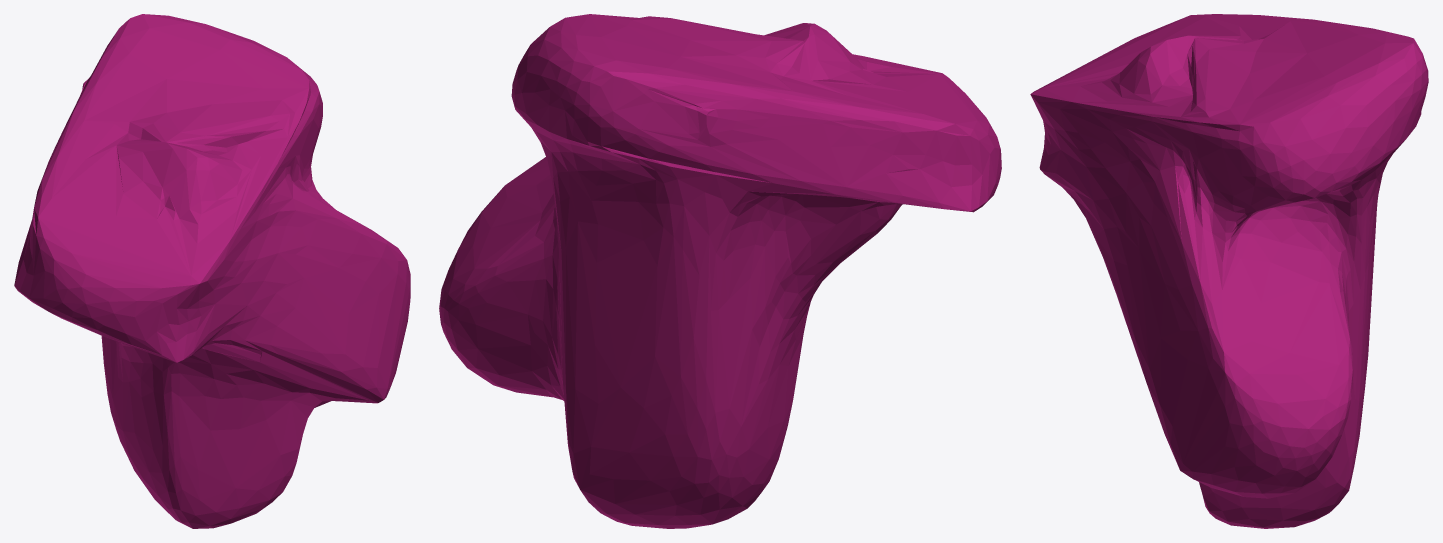
3 views of the same model, side by side, from view 1: azimuth 30°, elevation 25°; view 2: azimuth 150°, elevation 25°; view 3: azimuth 270°, elevation 25° (orthographic). The views are drawn at different scales.
Visible parts, largest first — view 1: 735_Cube.2950; view 2: 735_Cube.2950; view 3: 735_Cube.2950.
Part boxes in pixels (left/top/right/bottom): 735_Cube.2950: left=14, top=14, right=410, bottom=528; 735_Cube.2950: left=439, top=14, right=1001, bottom=528; 735_Cube.2950: left=1030, top=14, right=1428, bottom=528.
Size of the model in its own units: 12.99 by 13.2 by 10.03.
